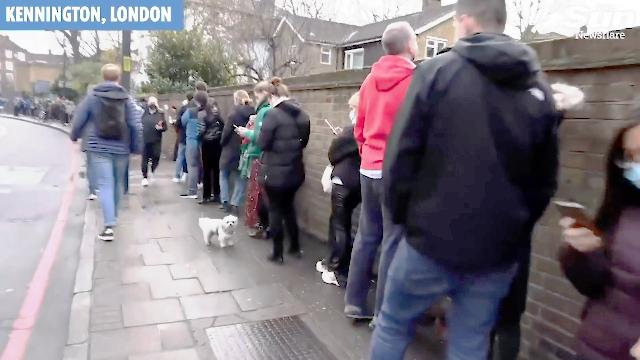berdiri: (372, 2, 552, 360), (258, 72, 312, 278)
berjalan: (68, 56, 146, 252)
